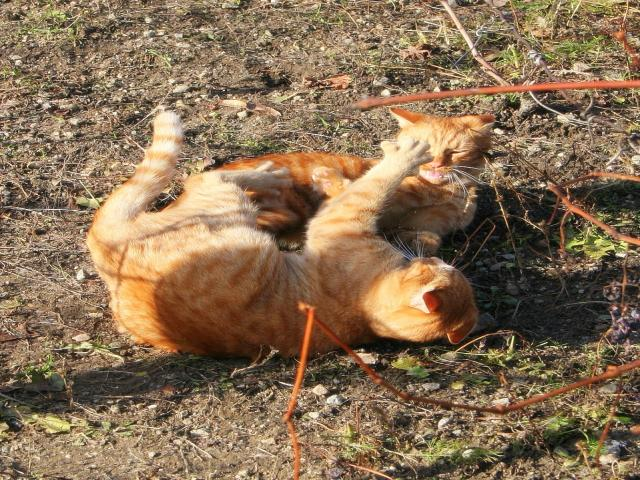Cat: (81, 109, 484, 363), (160, 104, 492, 256)
